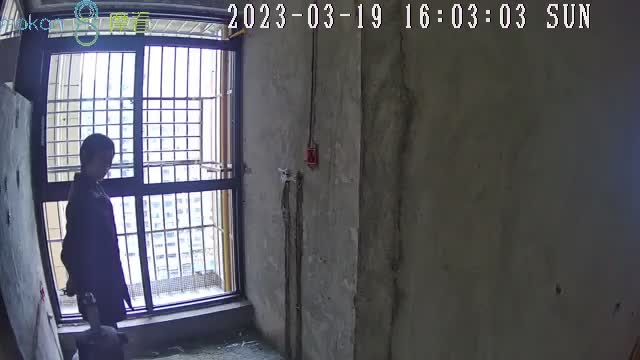people: (60, 133, 134, 360)
window: (48, 47, 239, 320)
